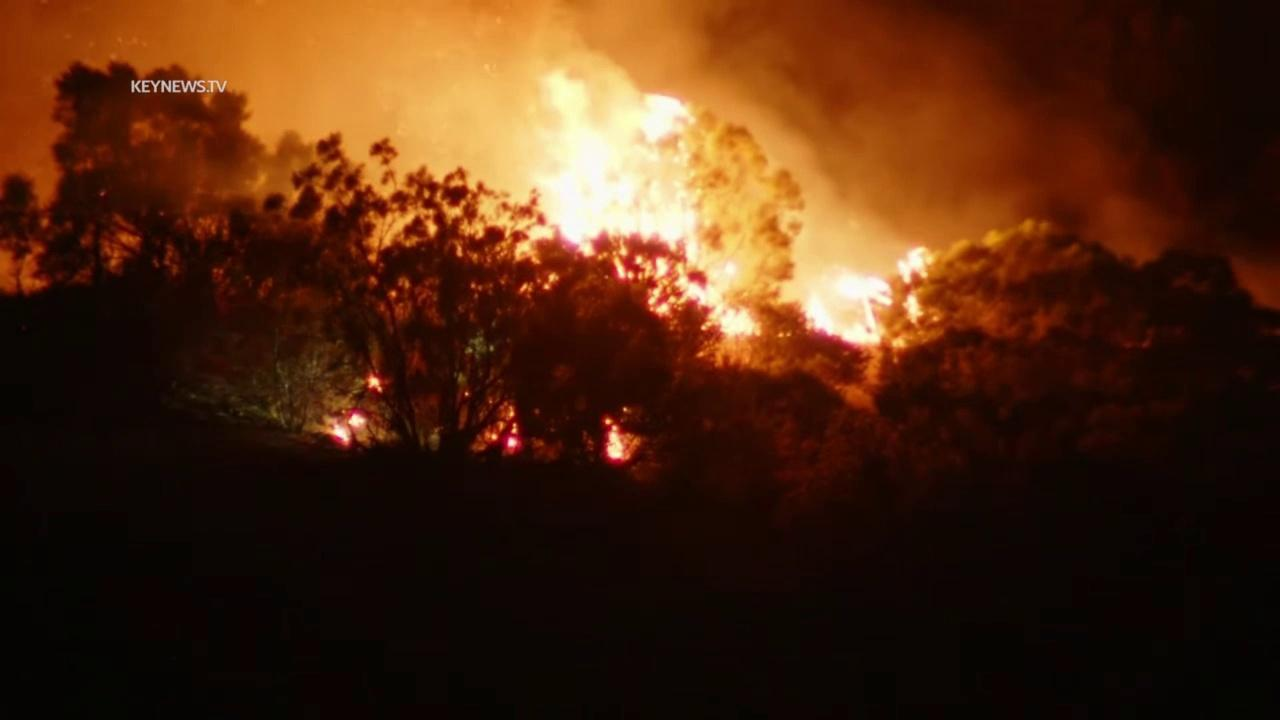fire: (511, 34, 762, 339), (804, 242, 935, 345), (478, 404, 522, 455), (325, 407, 368, 447), (600, 415, 627, 459), (362, 374, 387, 395), (461, 388, 472, 400)
smoke: (0, 0, 1280, 332)
